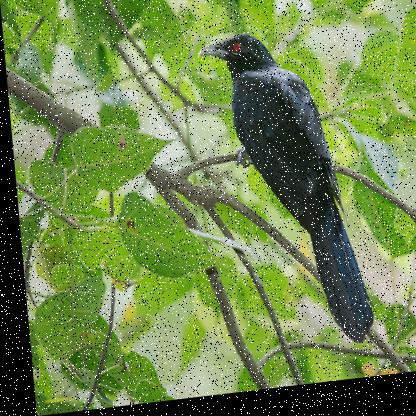Burung: (195, 29, 370, 365)
